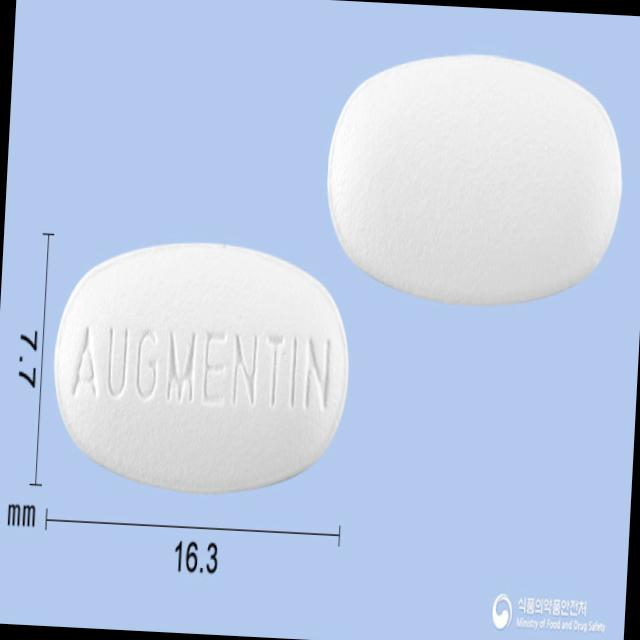Augmentin: (48, 234, 357, 505)
